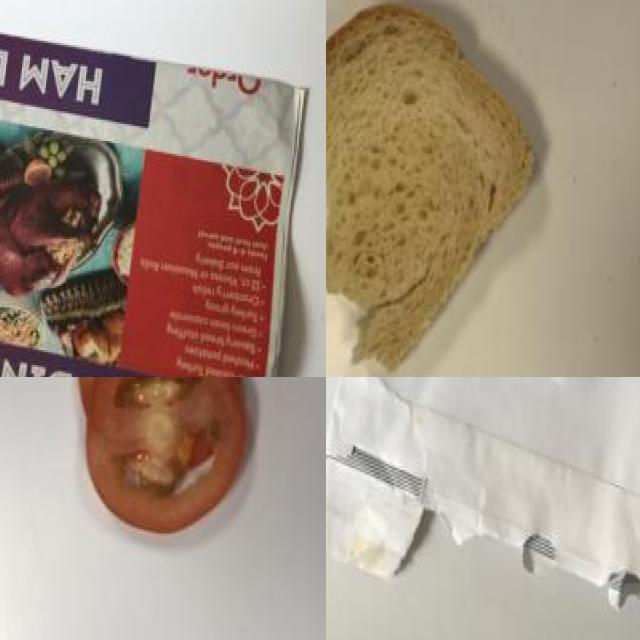compost: (326, 0, 576, 377), (37, 377, 285, 566)
paper: (0, 0, 304, 377), (326, 377, 640, 624)
